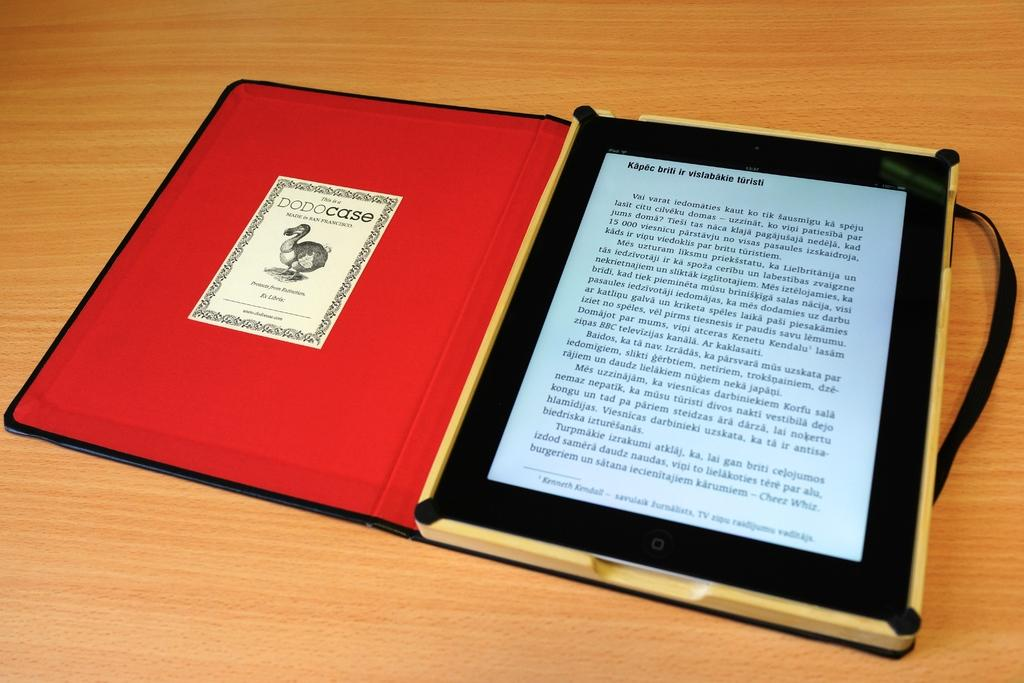book: (117, 111, 1024, 620)
